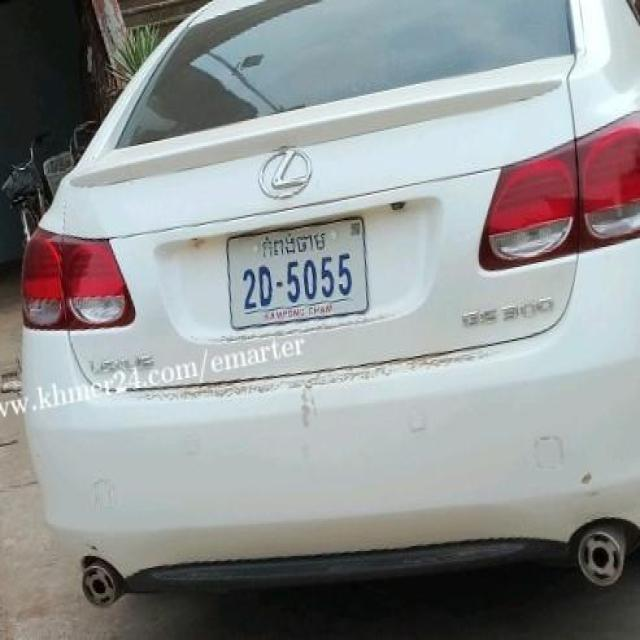Kampong_Cham: (262, 233, 326, 258)
